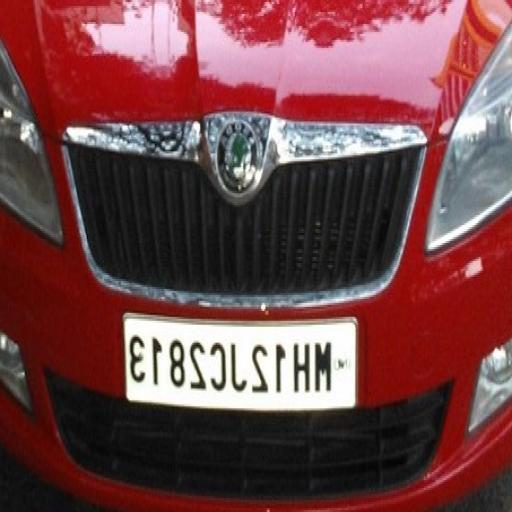License: (126, 311, 360, 406)
